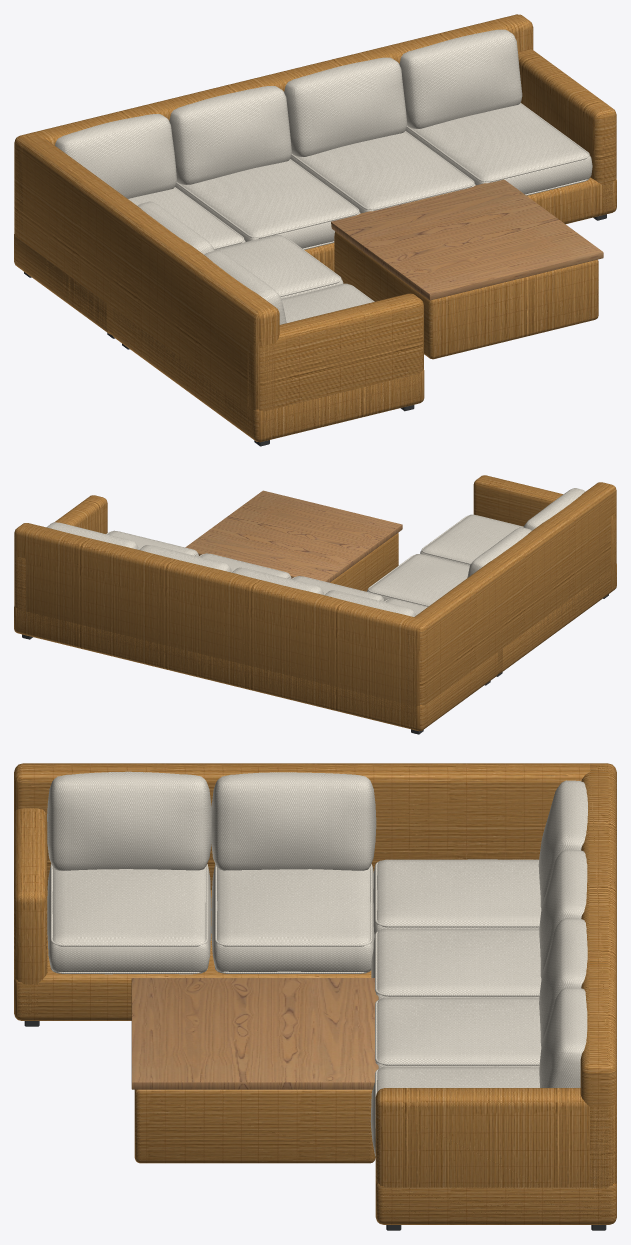
The model's file is conjunto_chillout_natural.glb.
3 renders of one model, top to bottom at view 1: azimuth 30°, elevation 25°; view 2: azimuth 150°, elevation 25°; view 3: azimuth 270°, elevation 25°, orthographic. The views are drawn at different scales.
Parts seen in each view (by area): view 1: conjunto_chillout_natural; view 2: conjunto_chillout_natural; view 3: conjunto_chillout_natural.
Part boxes in pixels (x1=…): conjunto_chillout_natural: x1=14, y1=14, x2=616, y2=446; conjunto_chillout_natural: x1=14, y1=475, x2=616, y2=734; conjunto_chillout_natural: x1=14, y1=763, x2=616, y2=1230.
Bounding box in the file's own units: 2.4 × 0.6338 × 2.
Materials: 4 (3 with a texture image).
